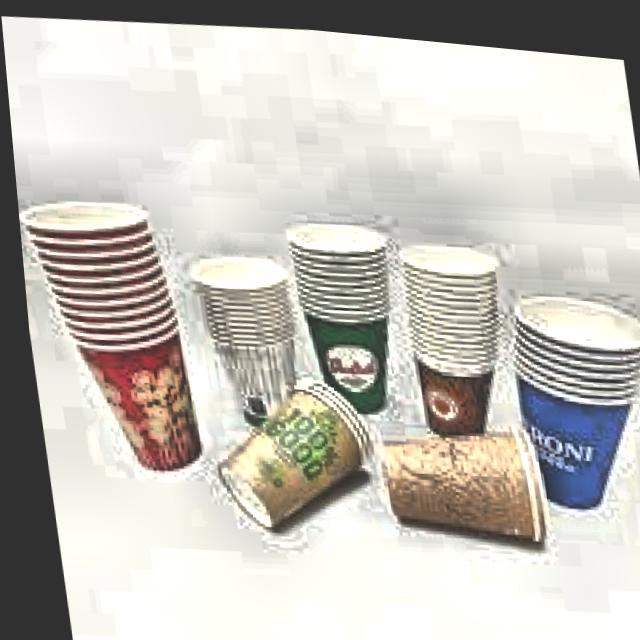Cup: (12, 177, 211, 478), (498, 268, 640, 504), (208, 359, 377, 543), (360, 405, 557, 560), (385, 224, 511, 446), (275, 208, 406, 416), (184, 242, 310, 435)
